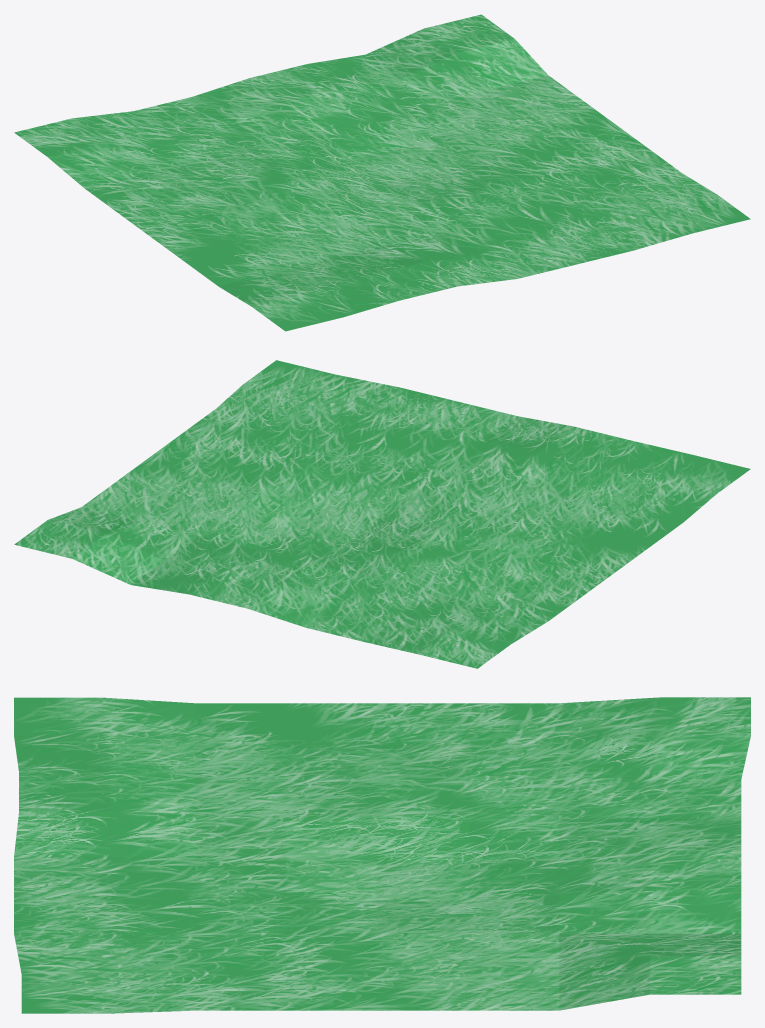
File: Yuka.obj
3 views of the same model, one above another, from view 1: azimuth 30°, elevation 25°; view 2: azimuth 150°, elevation 25°; view 3: azimuth 270°, elevation 25° (orthographic). The views are drawn at different scales.
Parts seen in each view (by area): view 1: 平面; view 2: 平面; view 3: 平面.
Boxes of the visible parts, bbox=[...] form: 平面: bbox=[14, 14, 750, 331]; 平面: bbox=[14, 360, 750, 668]; 平面: bbox=[14, 697, 750, 1013].
Size of the model in its own units: 20.19 by 0.6589 by 20.27.
